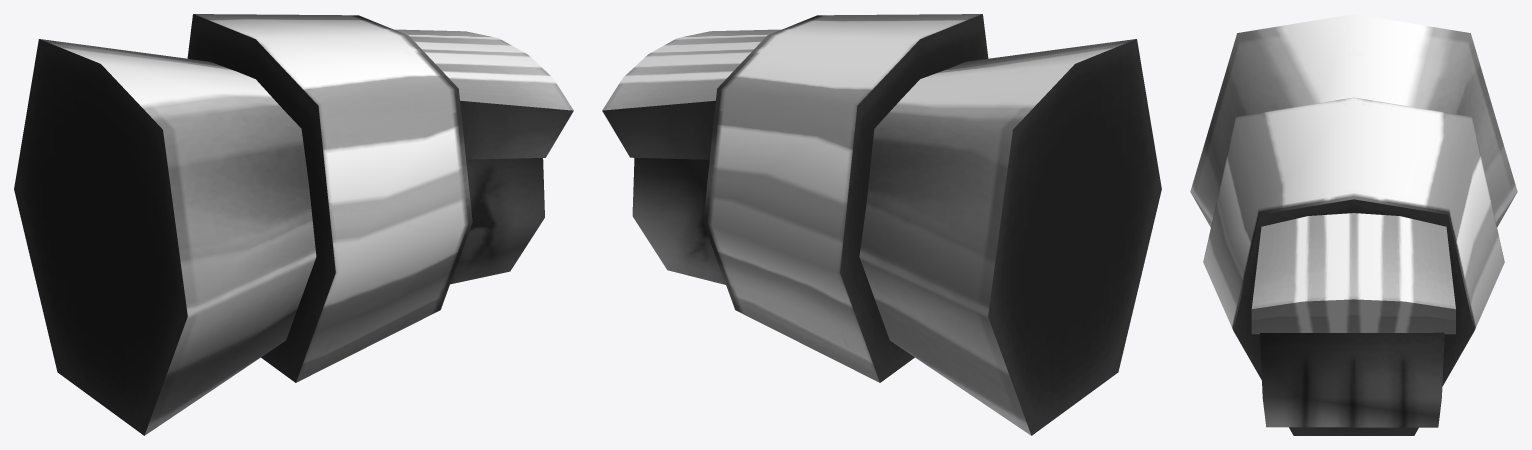
File: knuckle0013_l.fbx
3 views of the same model, side by side, from view 1: azimuth 30°, elevation 25°; view 2: azimuth 150°, elevation 25°; view 3: azimuth 270°, elevation 25° (orthographic). The views are drawn at different scales.
Parts seen in each view (by area): view 1: knuckle0013_m_l; view 2: knuckle0013_m_l; view 3: knuckle0013_m_l.
Part boxes in pixels (x1=…): knuckle0013_m_l: x1=14, y1=14, x2=573, y2=435; knuckle0013_m_l: x1=602, y1=14, x2=1161, y2=435; knuckle0013_m_l: x1=1190, y1=14, x2=1517, y2=435.
Size of the model in its own units: 0.2863 by 0.218 by 0.2019.
